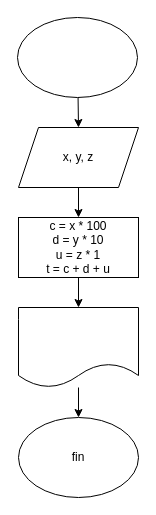
Some shapes in this 156 by 515 pixel diagram are drawn without their labels. The shapes that lost their labels are listed below. From the top down, each one's centre as x and y in pixels, then its label:
point 77,57: inicio
point 78,347: c, d, u
